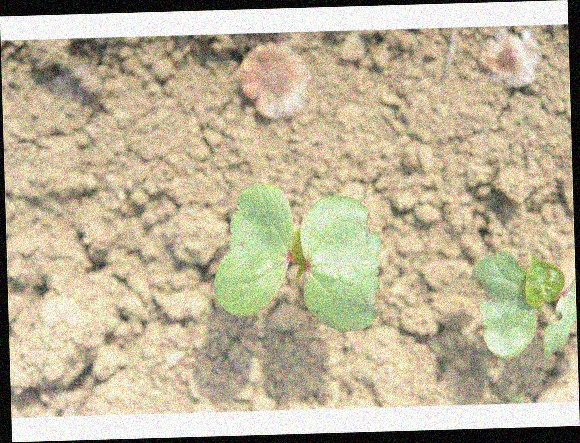cotton: (213, 179, 381, 334), (471, 247, 575, 362)
